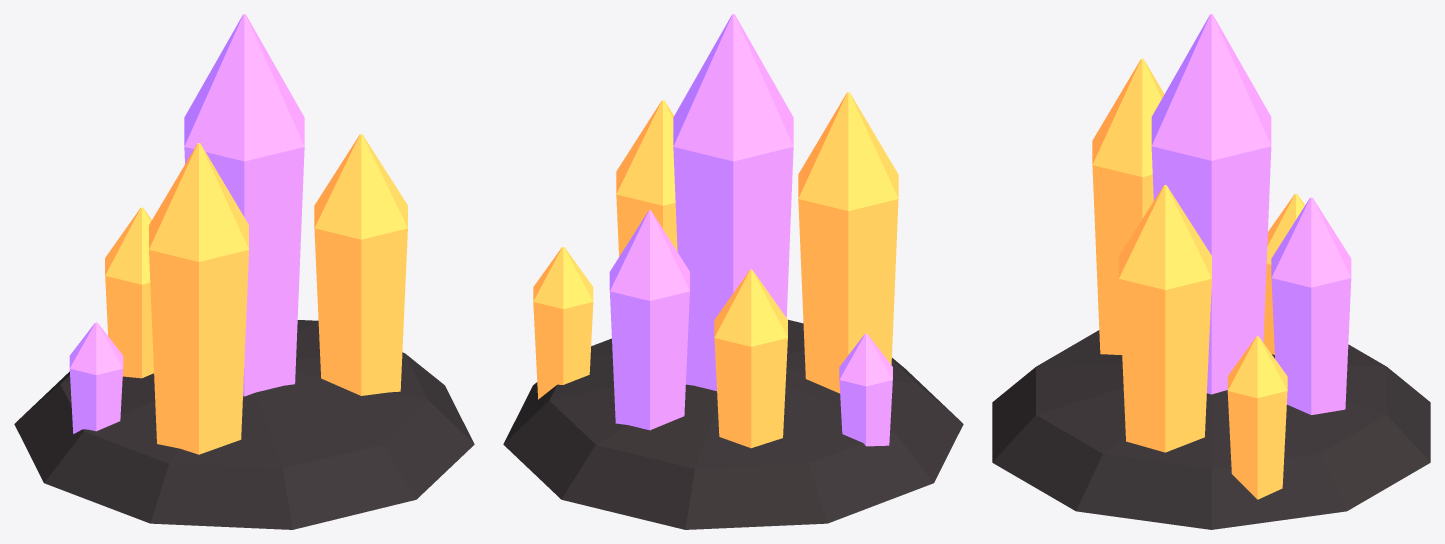
File: crystal_cluster.glb
3 renders of one model, left to right at view 1: azimuth 30°, elevation 25°; view 2: azimuth 150°, elevation 25°; view 3: azimuth 270°, elevation 25°, orthographic.
Visible parts, largest first — view 1: LOD0; view 2: LOD0; view 3: LOD0.
Boxes of the visible parts, bbox=[...] form: LOD0: bbox=[14, 14, 474, 529]; LOD0: bbox=[503, 14, 963, 529]; LOD0: bbox=[992, 14, 1430, 529].
Size of what is drawn, in the model's own units: 6 by 6 by 5.71.
